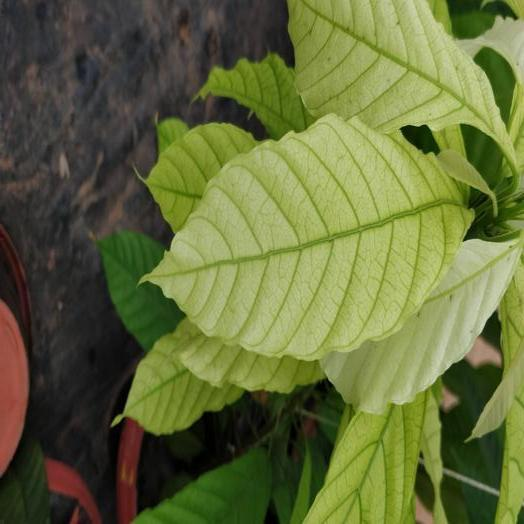Iron: (145, 115, 472, 359), (288, 0, 515, 166)
